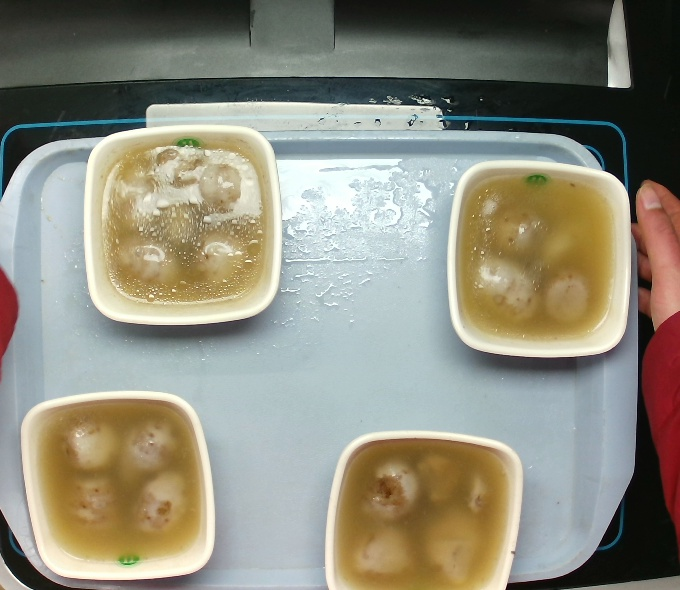wcq-YuTouTang: (97, 137, 271, 309), (452, 170, 621, 347), (29, 398, 207, 565), (331, 435, 515, 590)
